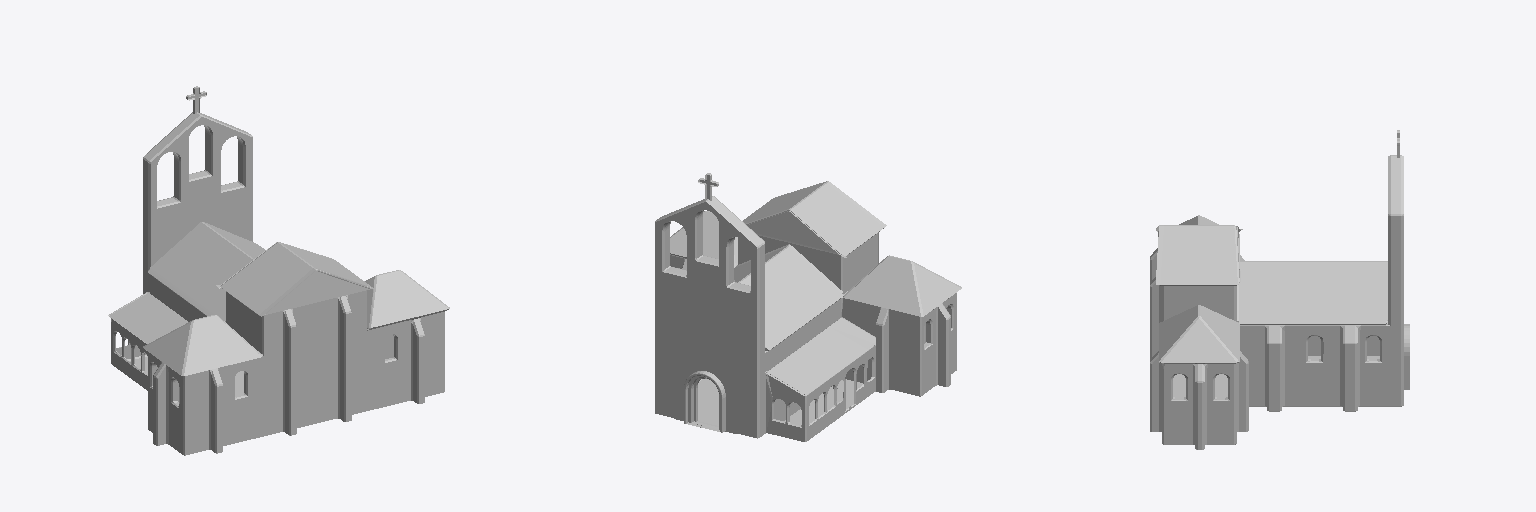
Rendered from iglesiabuena.obj.
3 renders of one model, left to right at view 1: azimuth 30°, elevation 25°; view 2: azimuth 150°, elevation 25°; view 3: azimuth 270°, elevation 25°, orthographic.
Visible parts, largest first — view 1: iglesia_claustro_y_cruz_Cube.008; view 2: iglesia_claustro_y_cruz_Cube.008, portada__romanica_Cylinder.003; view 3: iglesia_claustro_y_cruz_Cube.008.
Part boxes in pixels (x1,y1,x2,y2): iglesia_claustro_y_cruz_Cube.008: (108, 86, 449, 455); iglesia_claustro_y_cruz_Cube.008: (655, 173, 961, 441); portada__romanica_Cylinder.003: (684, 371, 725, 432); iglesia_claustro_y_cruz_Cube.008: (1150, 130, 1403, 449).
Bounding box in the file's own units: 21.6 × 18.29 × 17.23.